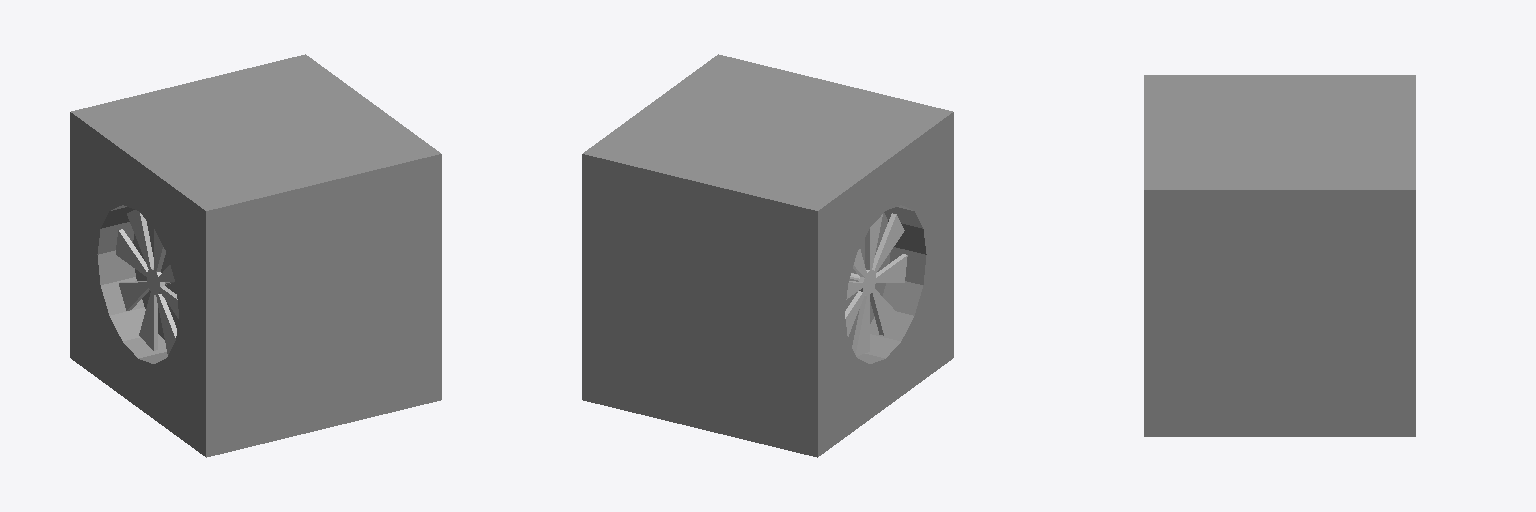
The model's file is Heater.obj.
3 renders of one model, left to right at view 1: azimuth 30°, elevation 25°; view 2: azimuth 150°, elevation 25°; view 3: azimuth 270°, elevation 25°, orthographic.
Visible parts, largest first — view 1: Hull_Cube, Fan_Cylinder; view 2: Hull_Cube, Fan_Cylinder; view 3: Hull_Cube.
Part boxes in pixels (x1,y1,x2,y2): Hull_Cube: (70, 54, 441, 457); Fan_Cylinder: (116, 210, 178, 354); Hull_Cube: (582, 54, 953, 457); Fan_Cylinder: (845, 213, 907, 356); Hull_Cube: (1144, 75, 1415, 436).
Size of the model in its own units: 1 by 1 by 1.